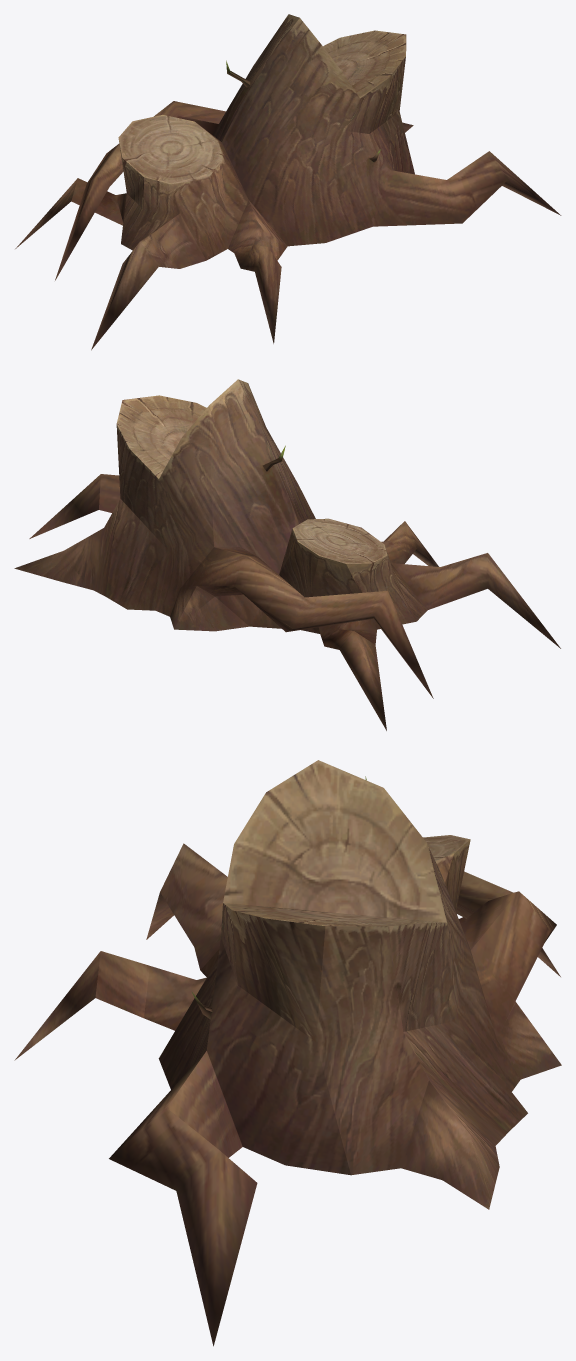
Rendered from shuzhuang05.FBX.
The picture shows the model from 3 angles, top to bottom: view 1: azimuth 30°, elevation 25°; view 2: azimuth 150°, elevation 25°; view 3: azimuth 270°, elevation 25°; orthographic projection. The views are drawn at different scales.
Parts seen in each view (by area): view 1: UE050_1; view 2: UE050_1; view 3: UE050_1.
Part boxes in pixels (<box>): UE050_1: <box>15,14,561,350</box>; UE050_1: <box>14,379,560,730</box>; UE050_1: <box>14,760,561,1346</box>.
Bounding box in the file's own units: 188 × 85.3 × 107.
